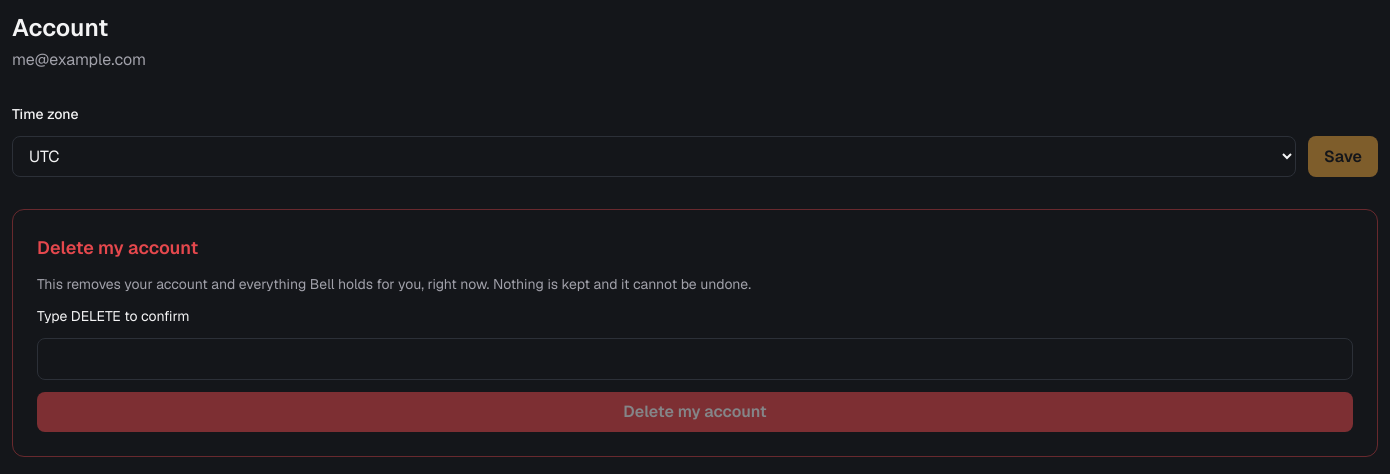
Test: AccountClient › shows the account and keeps Delete disabled until DELETE is typed
Expected: the text "me@example.com" is shown, [12,49,146,70]
Expected: the dropdown labelled "Time zone" shows "UTC", [12,136,1296,177]
Type "DELETE" into the field labelled "Type DELETE to confirm" at (695, 359), box [37,338,1353,380]
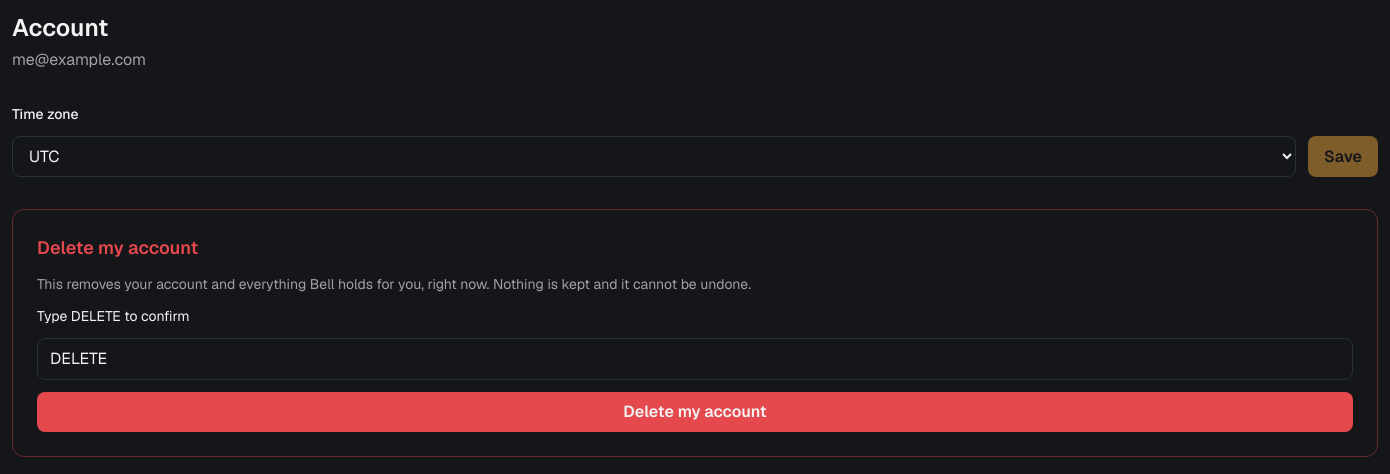
Expected: the button "Delete my account" is enabled, [37,392,1353,432]
